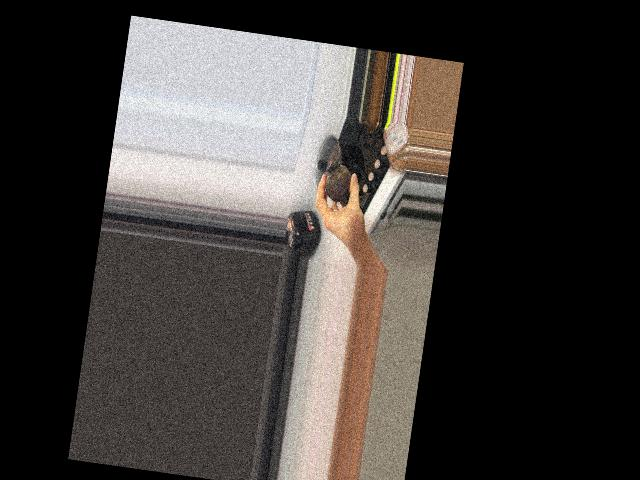beet: (322, 159, 353, 205)
